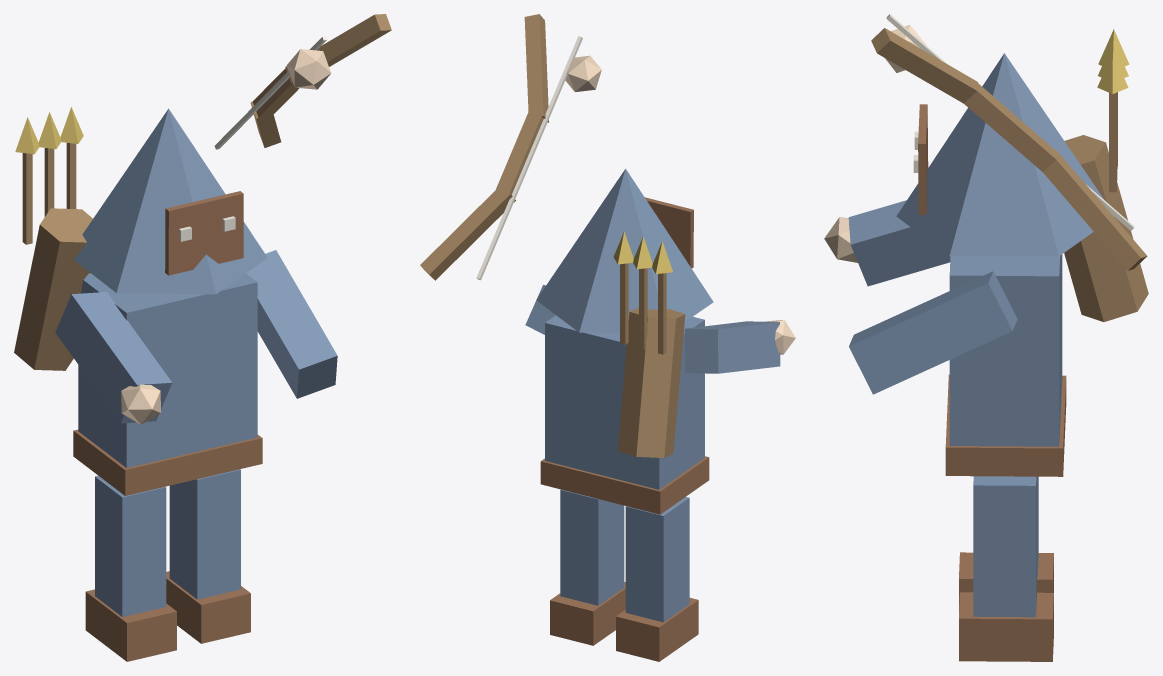
File: npcpose_archer_attack_01.glb
The picture shows the model from 3 angles, left to right: view 1: azimuth 30°, elevation 25°; view 2: azimuth 150°, elevation 25°; view 3: azimuth 270°, elevation 25°; orthographic projection. The views are drawn at different scales.
Visible parts, largest first — view 1: npcpose; view 2: npcpose; view 3: npcpose.
Part boxes in pixels (left/top/right/bottom): npcpose: left=14, top=14, right=391, bottom=661; npcpose: left=420, top=14, right=795, bottom=661; npcpose: left=824, top=14, right=1148, bottom=661.
Size of the model in its own units: 0.9229 by 1.92 by 0.8287.
